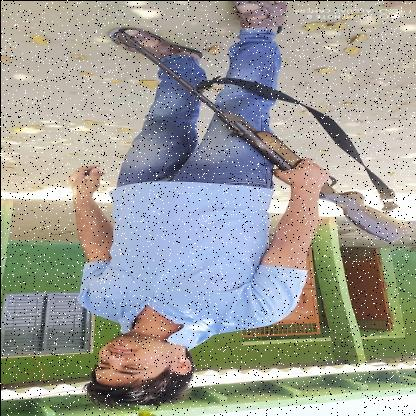rifle: (106, 29, 414, 243)
